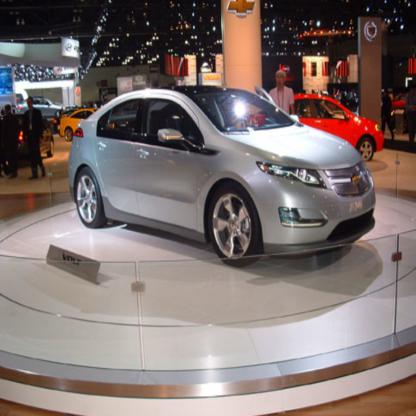Car: (0, 93, 386, 267)
